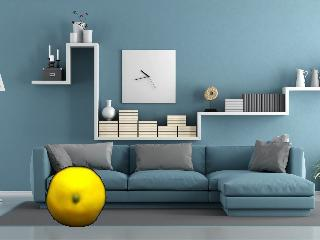lemon: (48, 168, 106, 227)
